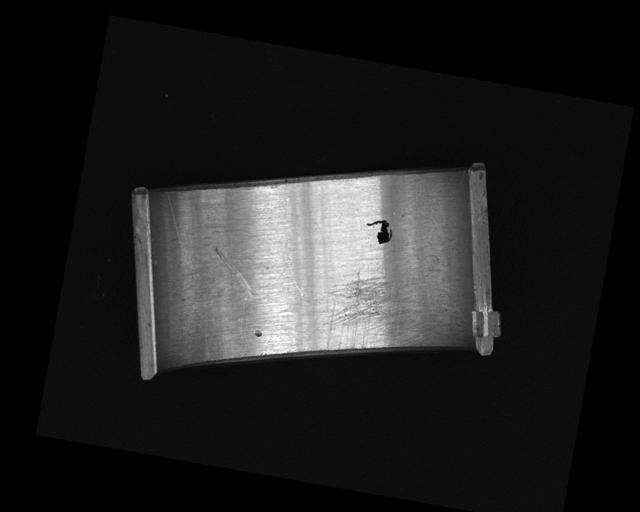blot: (363, 216, 395, 246)
bruise: (251, 328, 262, 339)
nick: (264, 180, 323, 296), (151, 188, 208, 278), (206, 246, 262, 298), (233, 291, 254, 344)
scratch: (314, 265, 440, 368)
